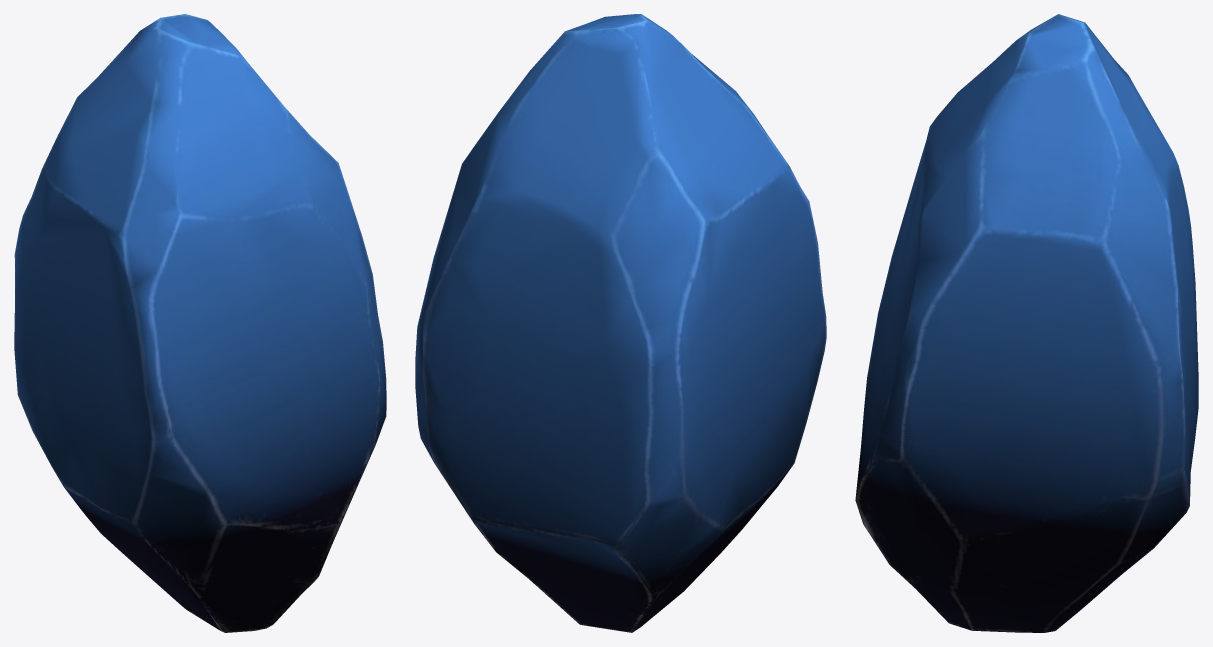
File: gemstone.obj
3 views of the same model, side by side, from view 1: azimuth 30°, elevation 25°; view 2: azimuth 150°, elevation 25°; view 3: azimuth 270°, elevation 25° (orthographic). The views are drawn at different scales.
Parts seen in each view (by area): view 1: defaultMaterial; view 2: defaultMaterial; view 3: defaultMaterial.
Boxes of the visible parts, box(x1,y1,x2,y2) form: defaultMaterial: box(14, 14, 386, 632); defaultMaterial: box(415, 14, 826, 632); defaultMaterial: box(855, 14, 1198, 632).
Size of the model in its own units: 0.0917 by 0.2 by 0.106.
